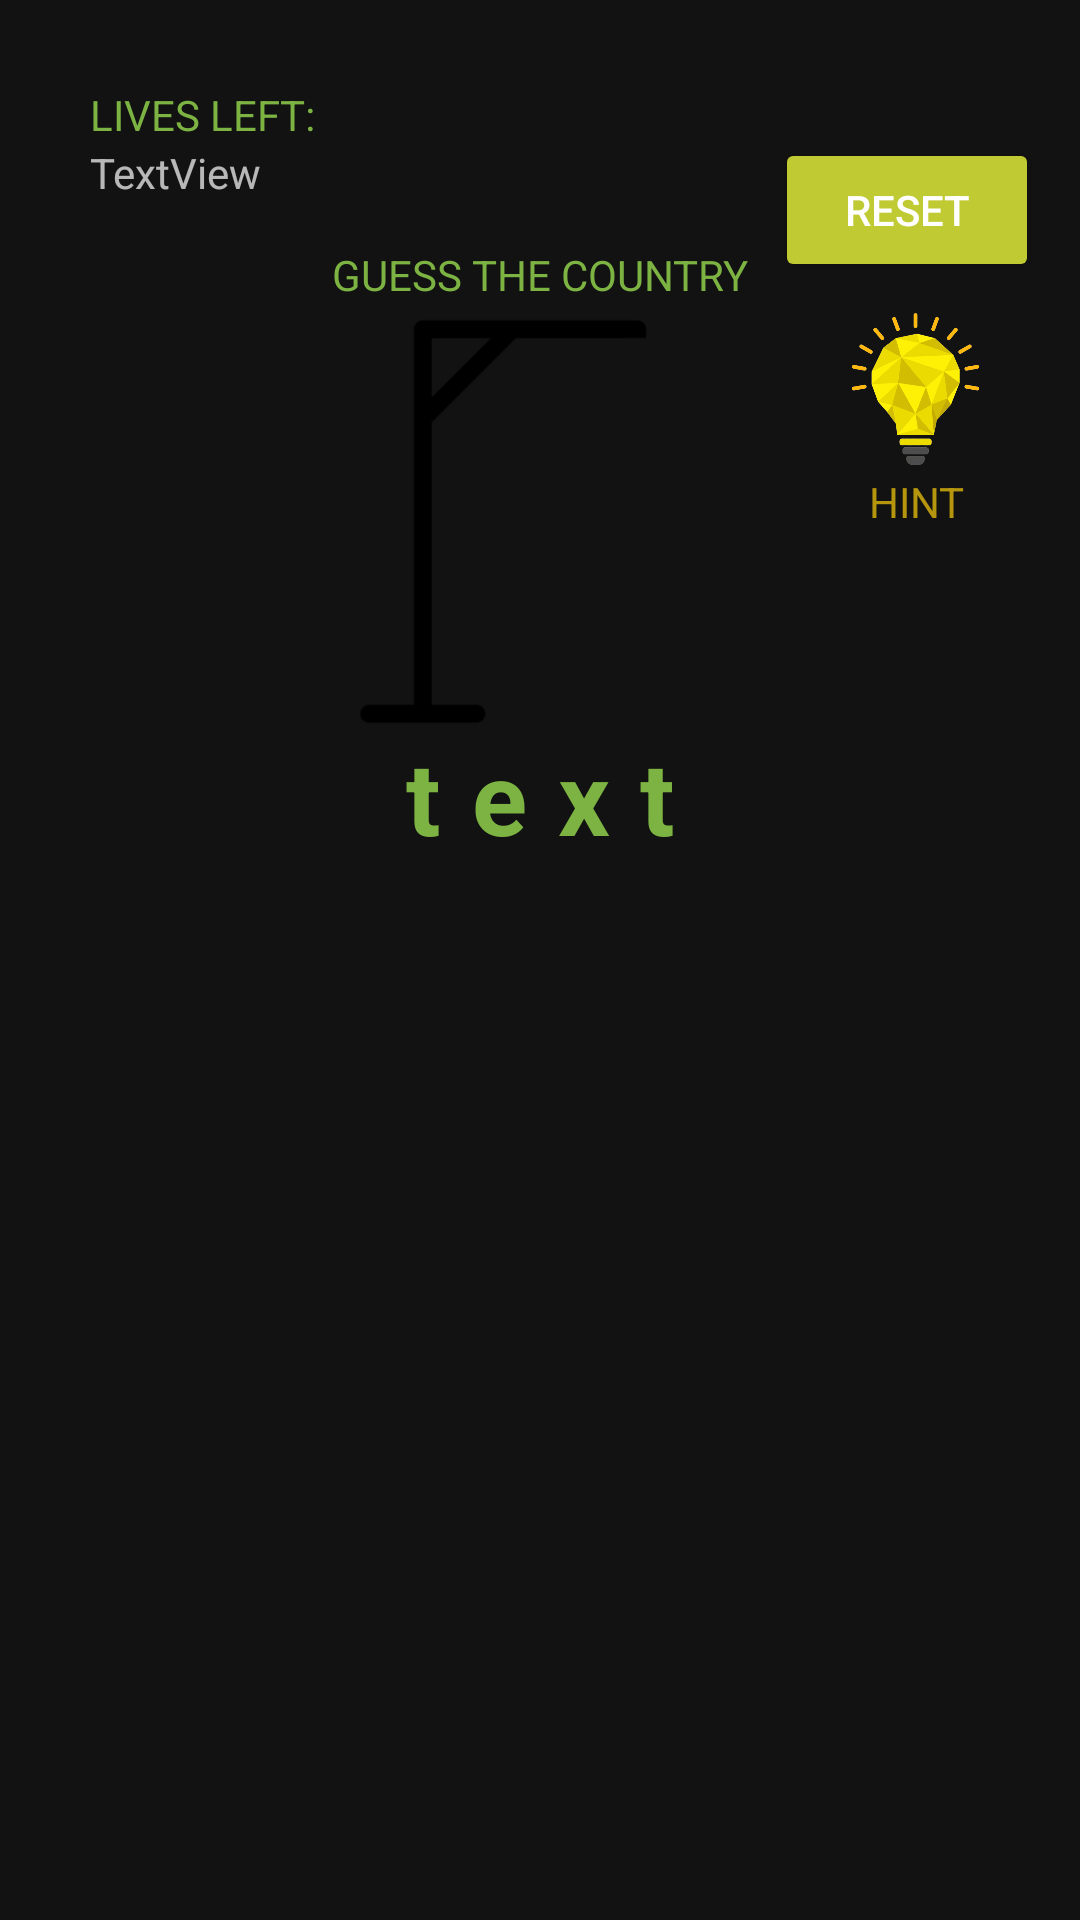

Icon bounding boxes for this 1080px x 1920px phone screenshot, format (x1, y1, x2, y2):
bulb: (852, 313, 979, 465)
